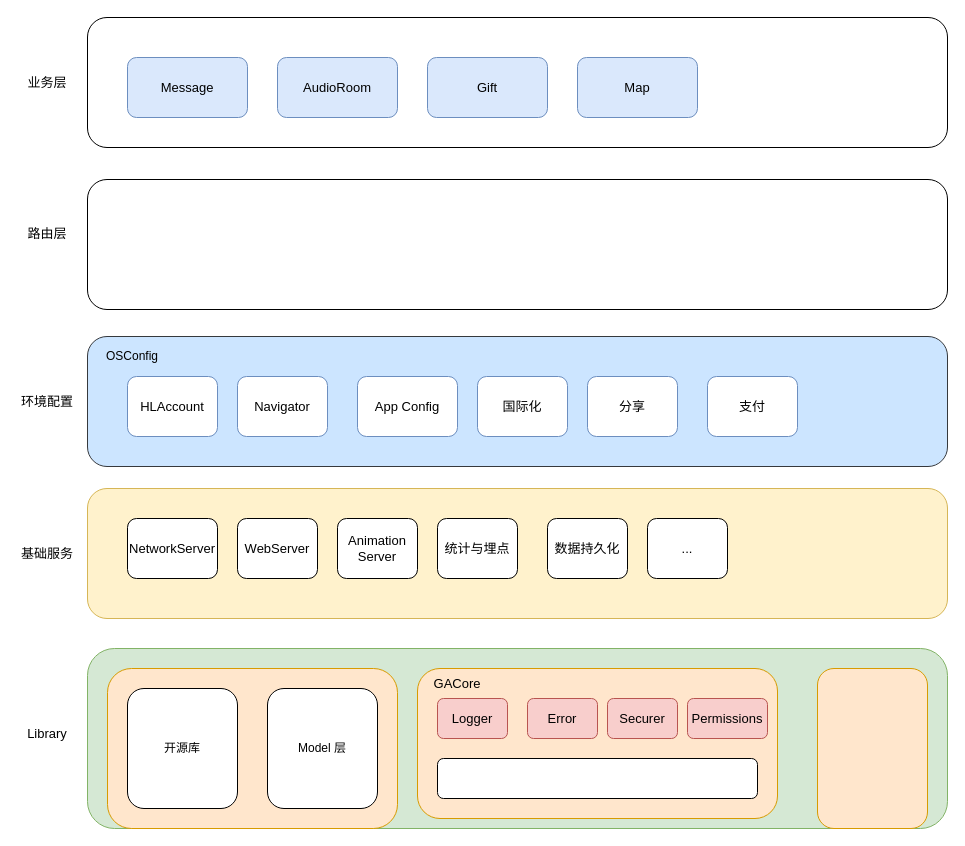
The diagram is 965 pixels wide and 846 high, and some of its shapes have lost their labels. The shapes that lost their labels are listed below. From the top down, each one's centre as x and y in pixels, then its label:
At (x=517, y=244): "RainBow".
At (x=872, y=748): "GAUI".
At (x=597, y=778): "Extension Utils".
